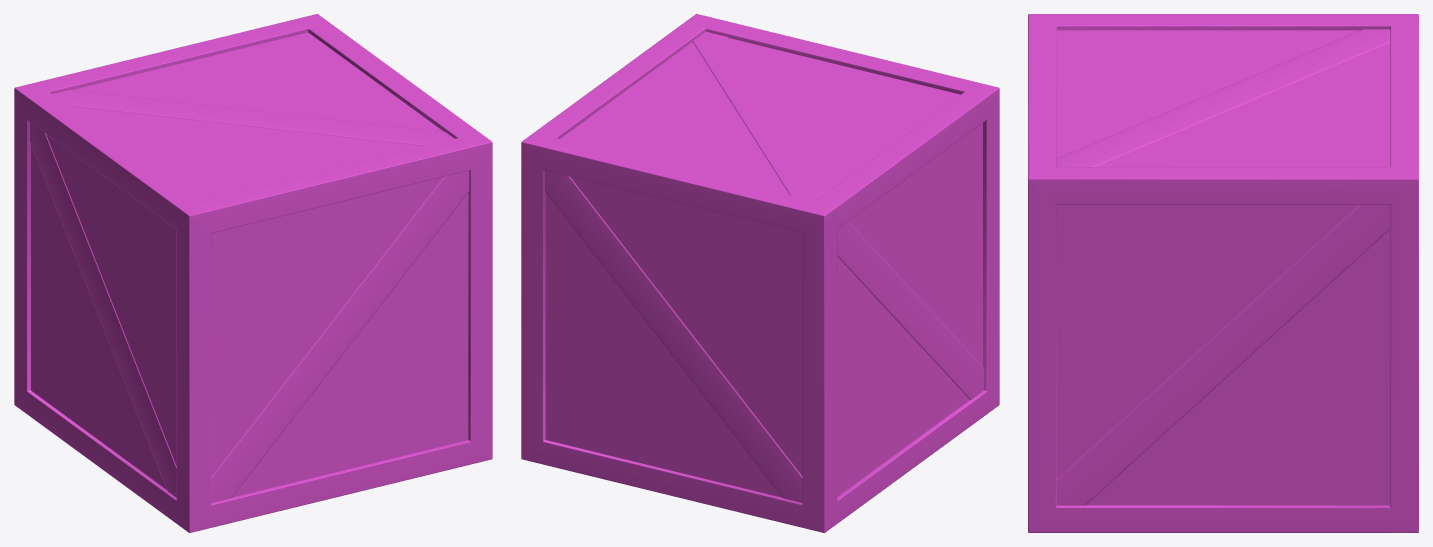
Rendered from Caja_Tipo_1.fbx.
The picture shows the model from 3 angles, left to right: view 1: azimuth 30°, elevation 25°; view 2: azimuth 150°, elevation 25°; view 3: azimuth 270°, elevation 25°; orthographic projection. The views are drawn at different scales.
Parts seen in each view (by area): view 1: Caja.006; view 2: Caja.006; view 3: Caja.006.
Boxes of the visible parts, left/top/right/bottom form: Caja.006: left=14, top=14, right=492, bottom=532; Caja.006: left=521, top=14, right=999, bottom=532; Caja.006: left=1028, top=14, right=1418, bottom=532.
Size of the model in its own units: 100 by 100 by 100.
